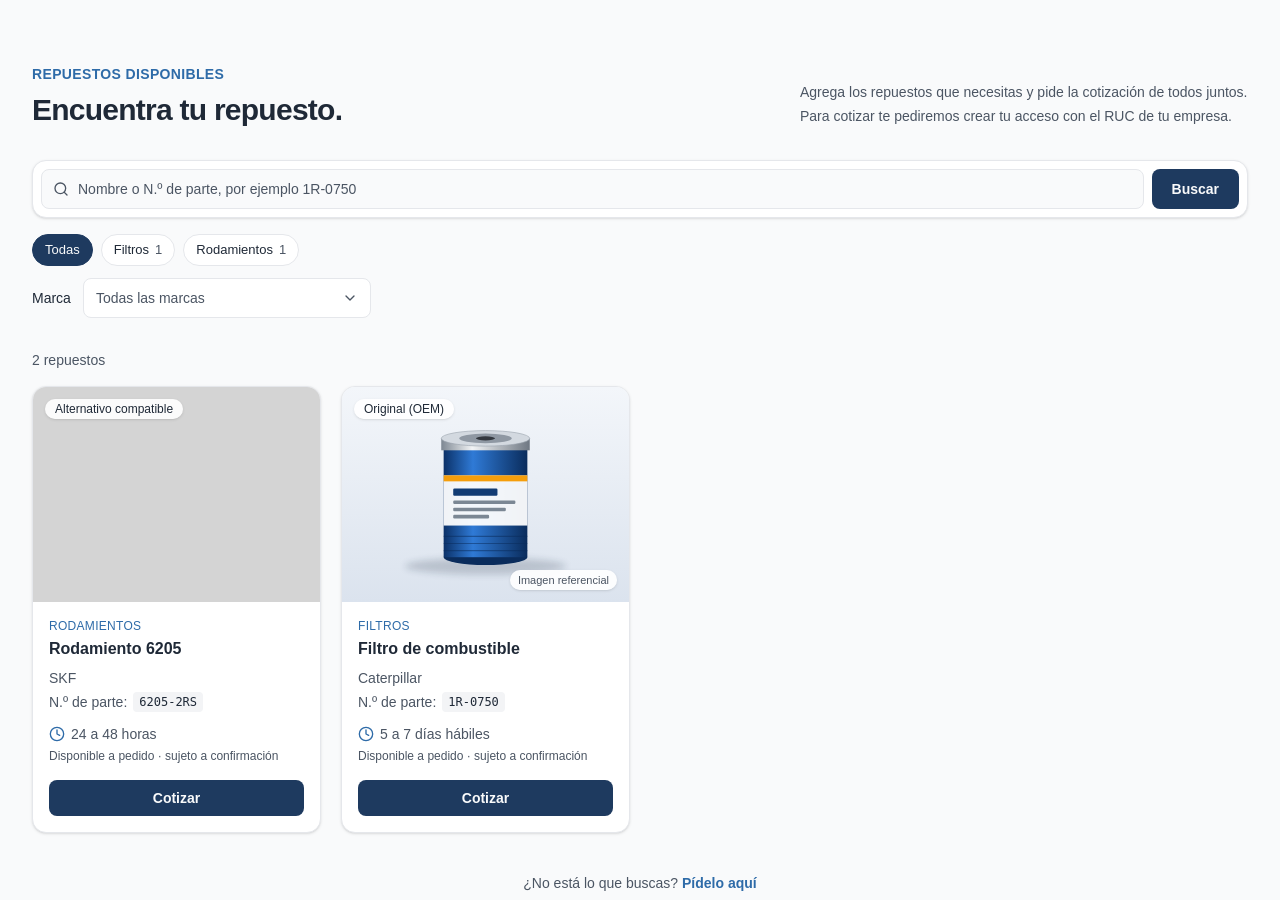
Test case: VitrinaLanding (RF-82, D-16, D-30) › la tarjeta muestra «En cotización (N)» y los controles - y + suben o bajan la cantidad
The image size is (1280, 900).
Click the button with aria-label "cotizar rodamiento 6205".
click(176, 798)  # box [49, 780, 304, 816]
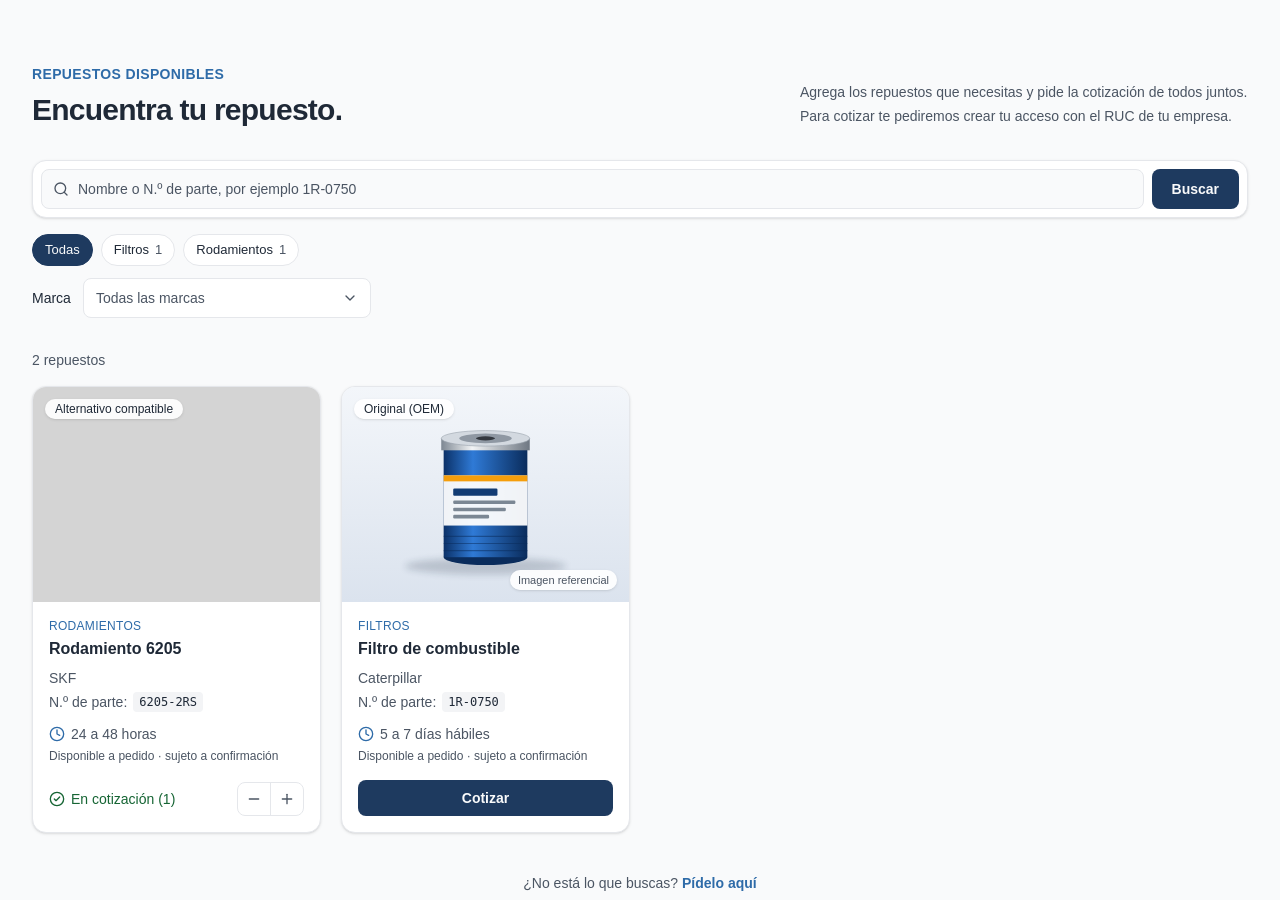
Now the text "En cotización (1)" is shown, box [49, 789, 175, 809]
Click the button named "aumentar cantidad de rodamiento 6205".
click(286, 799)  # box [270, 783, 303, 815]
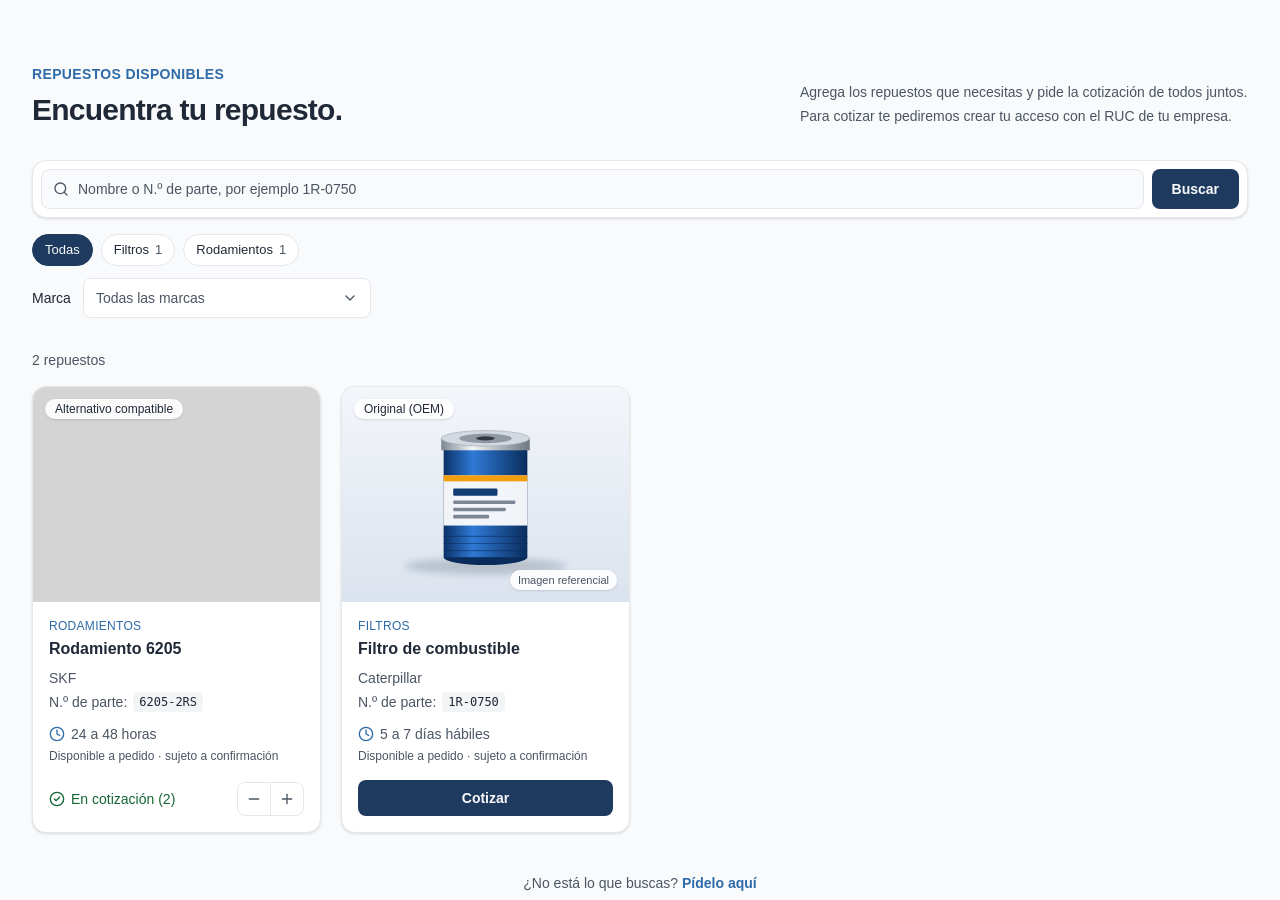
Now the text "En cotización (2)" is shown, box [49, 789, 175, 809]
Click the button named "disminuir cantidad de rodamiento 6205".
click(254, 799)  # box [238, 783, 270, 815]
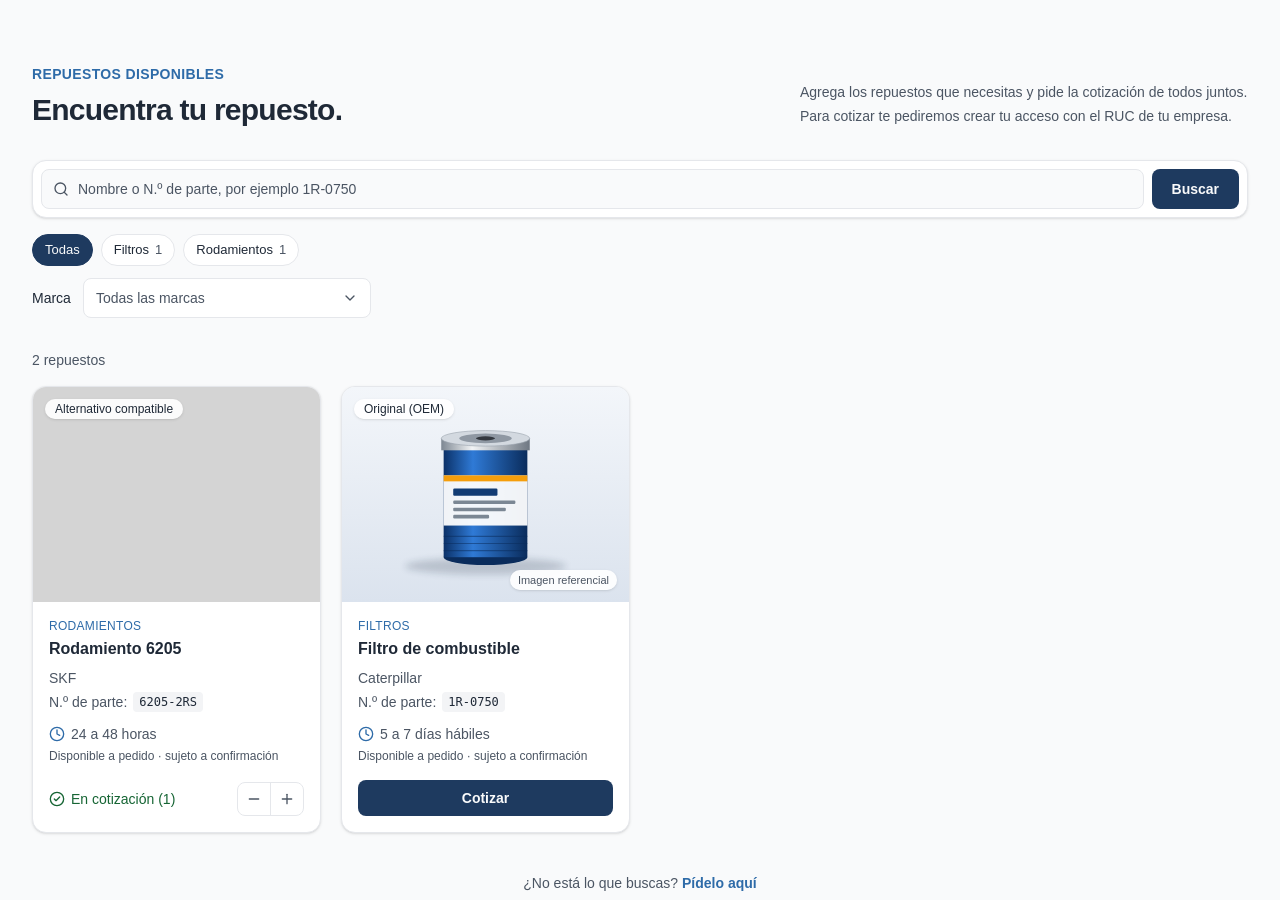
Now the text "En cotización (1)" is shown, box [49, 789, 175, 809]
